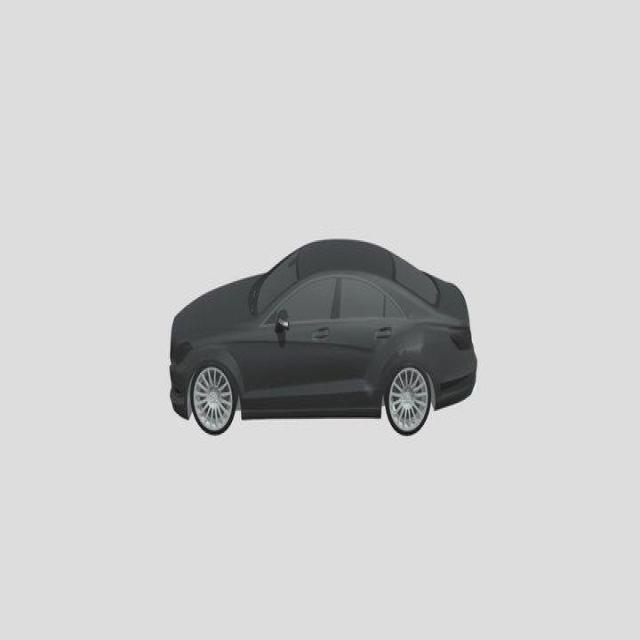Without deffect: (166, 203, 490, 472)
